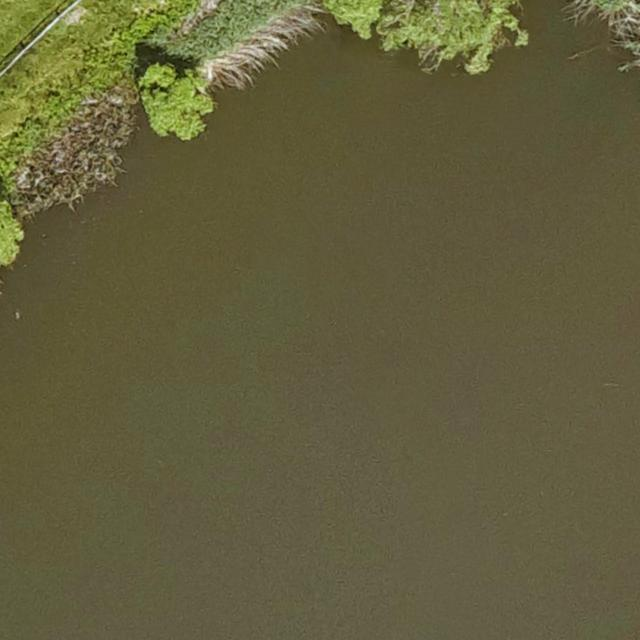tree: (146, 58, 210, 148)
